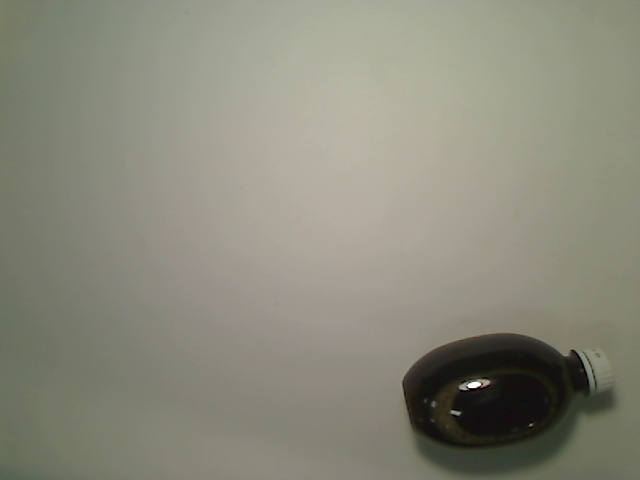plast_bottle: (399, 330, 614, 453)
